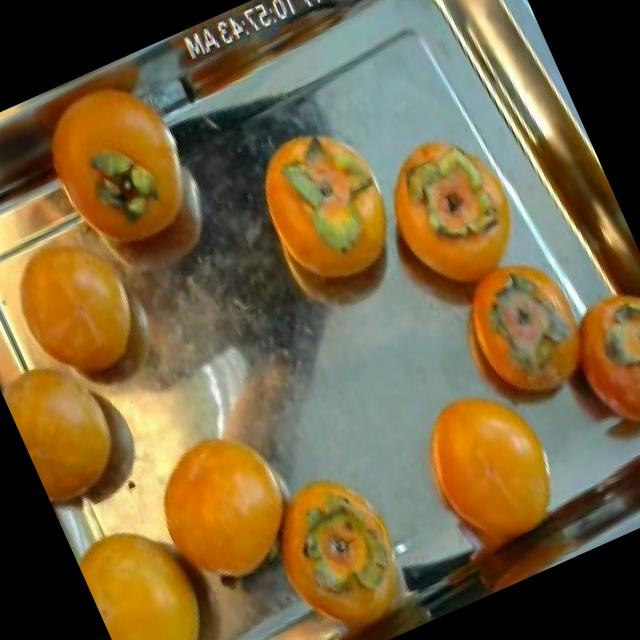Fruit: (115, 390, 337, 624), (383, 354, 598, 590), (230, 96, 428, 334), (240, 439, 441, 640)
